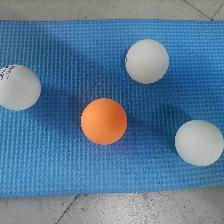WhiteBall: (174, 119, 224, 167), (124, 38, 168, 83), (0, 64, 40, 111)
YellowBall: (79, 97, 127, 145)
